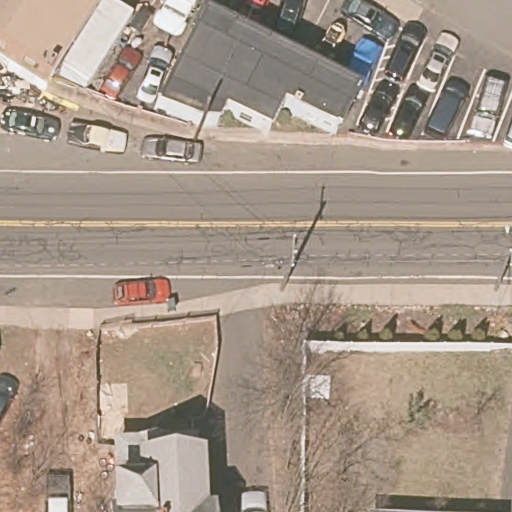DT: (183, 95, 213, 158), (277, 233, 302, 291), (492, 221, 512, 285)
